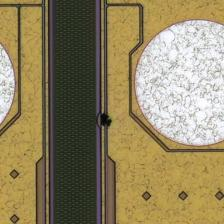BLOCK ETCH: (95, 112, 115, 132)
